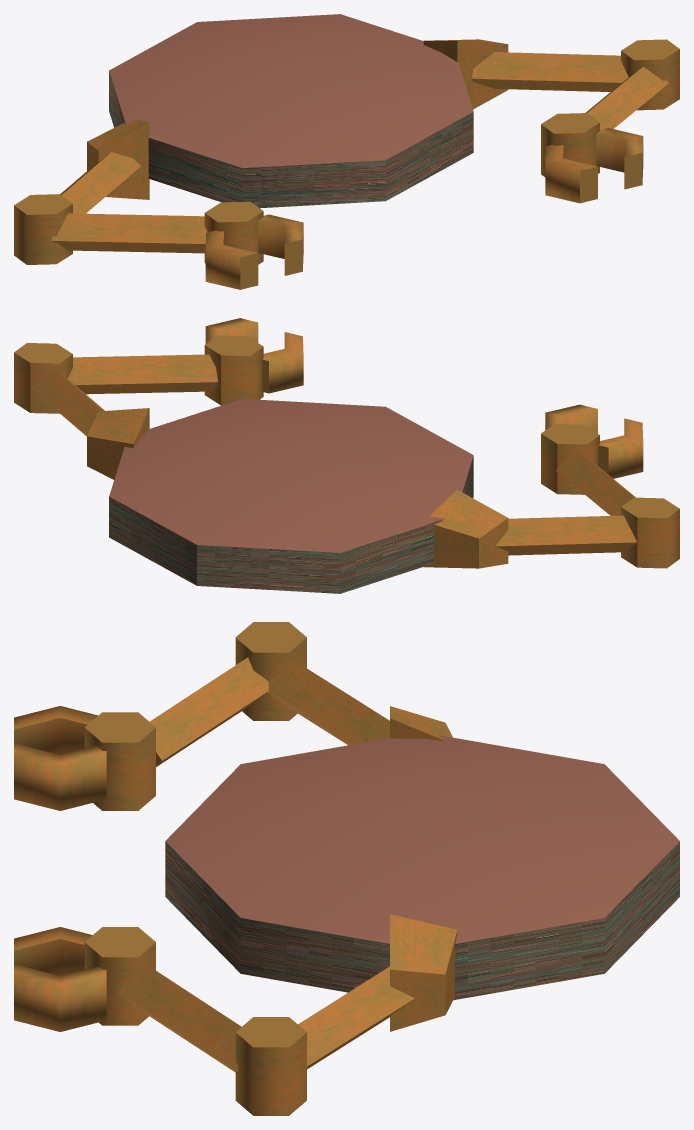
File: utility_ring.gltf
The picture shows the model from 3 angles, top to bottom: view 1: azimuth 30°, elevation 25°; view 2: azimuth 150°, elevation 25°; view 3: azimuth 270°, elevation 25°; orthographic projection. The views are drawn at different scales.
Parts seen in each view (by area): view 1: Mesh_0, Mesh_1, Mesh_2; view 2: Mesh_0, Mesh_1, Mesh_2; view 3: Mesh_0, Mesh_2, Mesh_1.
Boxes of the visible parts, <box> form: Mesh_0: <box>109,14,473,208</box>; Mesh_1: <box>14,119,303,289</box>; Mesh_2: <box>423,39,679,203</box>; Mesh_0: <box>109,399,473,593</box>; Mesh_1: <box>424,404,679,568</box>; Mesh_2: <box>14,318,303,479</box>; Mesh_0: <box>165,735,679,1000</box>; Mesh_2: <box>14,914,457,1115</box>; Mesh_1: <box>14,622,452,810</box>.
Size of the model in its own units: 0.6573 by 0.0888 by 0.426.
Materials: 2 (2 with a texture image).
